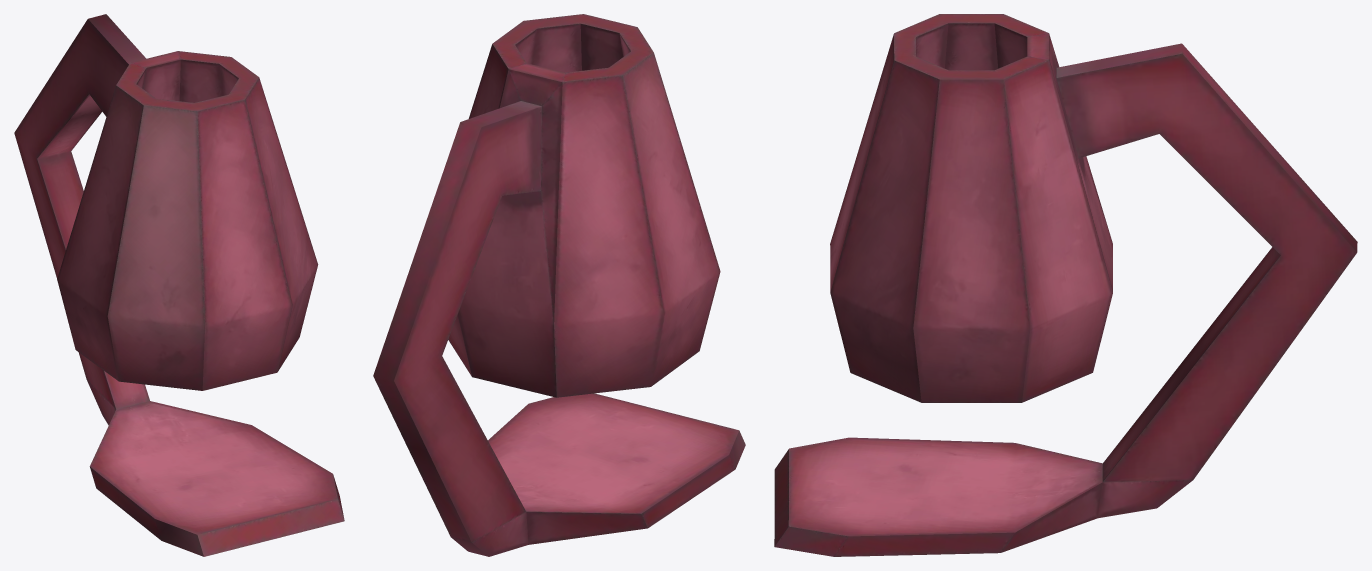
The model's file is pm-mesh-mug.glb.
3 views of the same model, side by side, from view 1: azimuth 30°, elevation 25°; view 2: azimuth 150°, elevation 25°; view 3: azimuth 270°, elevation 25° (orthographic). The views are drawn at different scales.
Parts seen in each view (by area): view 1: Mesh_Mug; view 2: Mesh_Mug; view 3: Mesh_Mug.
Part boxes in pixels (x1,y1,x2,y2): Mesh_Mug: [14, 14, 344, 556]; Mesh_Mug: [373, 14, 745, 556]; Mesh_Mug: [774, 14, 1357, 556].
Bounding box in the file's own units: 0.1242 × 0.2235 × 0.256.
Materials: 1 (1 with a texture image).
